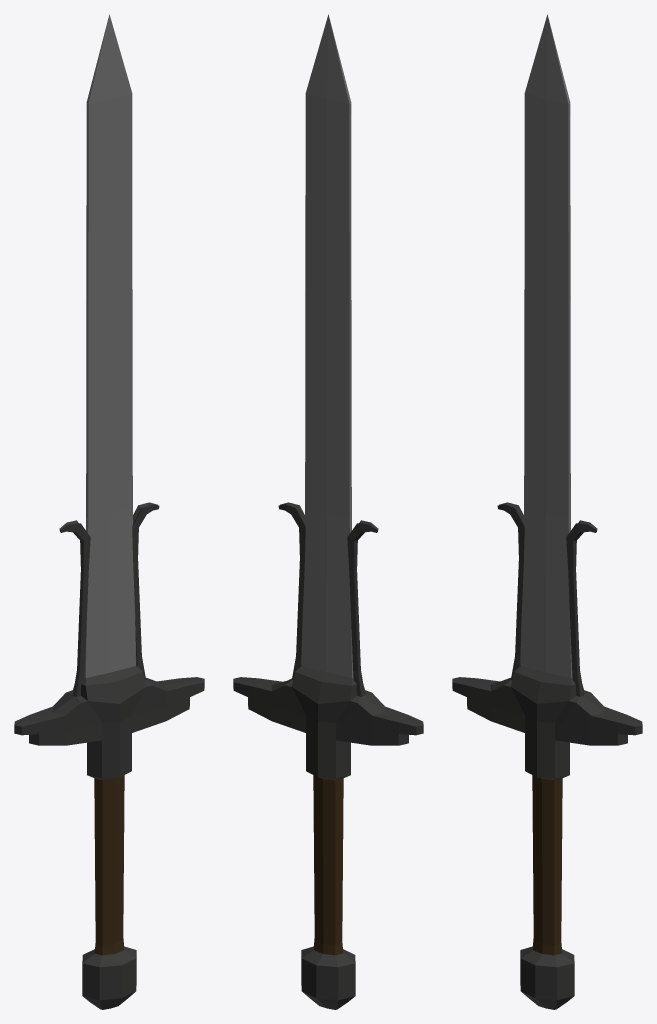
File: ether-blade.glb
3 views of the same model, side by side, from view 1: azimuth 30°, elevation 25°; view 2: azimuth 150°, elevation 25°; view 3: azimuth 330°, elevation 25° (orthographic).
Visible parts, largest first — view 1: Sword 1; view 2: Sword 1; view 3: Sword 1.
Part boxes in pixels (<box>): Sword 1: <box>14,14,204,1009</box>; Sword 1: <box>233,14,423,1009</box>; Sword 1: <box>452,14,642,1009</box>.
Bounding box in the file's own units: 0.2486 × 1.24 × 0.0544.
